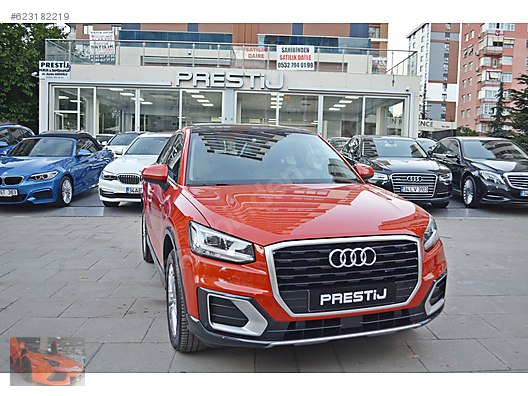audi: (322, 245, 379, 270)
